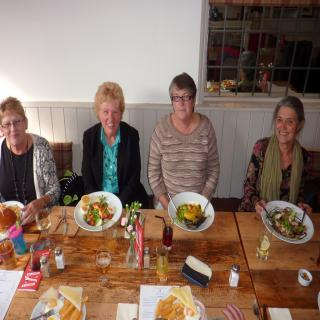Salad: (269, 202, 308, 239), (76, 195, 117, 226), (178, 200, 210, 230)
